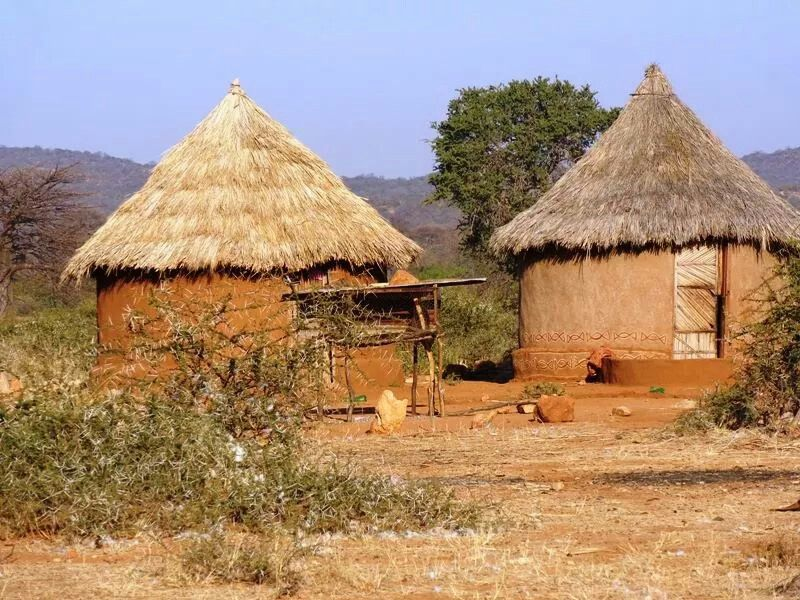Mud House: (49, 75, 475, 435), (489, 59, 797, 431)
